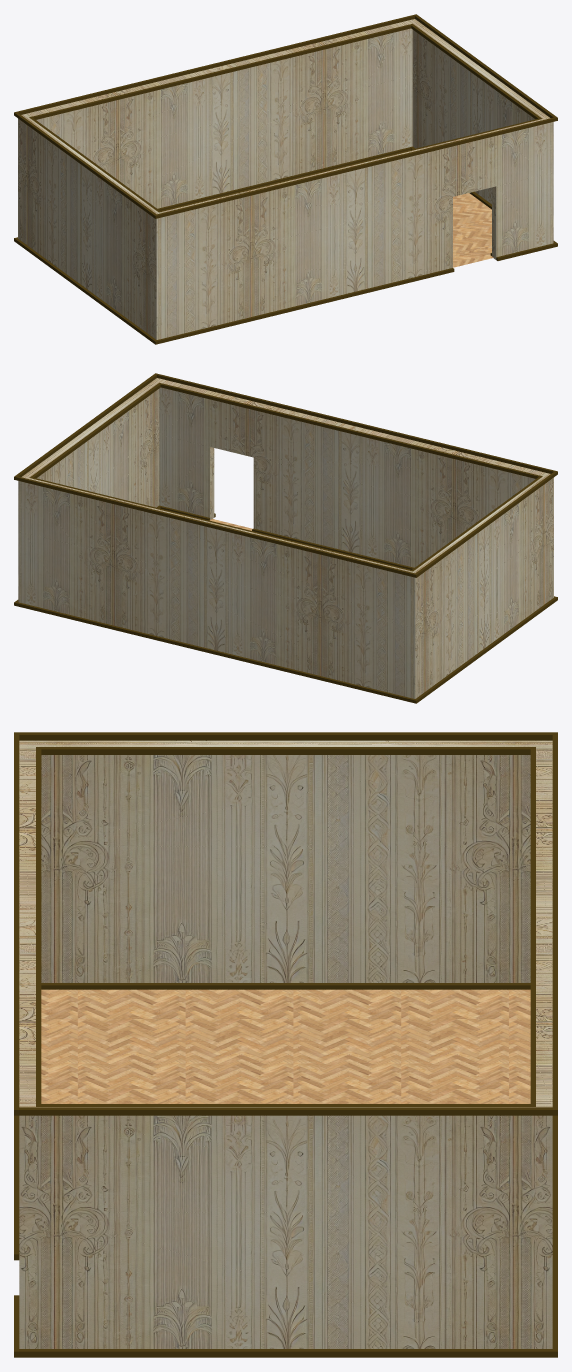
Rendered from Room_2.fbx.
3 renders of one model, top to bottom at view 1: azimuth 30°, elevation 25°; view 2: azimuth 150°, elevation 25°; view 3: azimuth 270°, elevation 25°, orthographic. The views are drawn at different scales.
Visible parts, largest first — view 1: Cube.031, Cube.033, Cube.035, Cube.032, Plane.008, Cube.034; view 2: Cube.031, Cube.033, Cube.035, Cube.032, Cube.034; view 3: Cube.031, Plane.008, Cube.033, Cube.035, Cube.032, Cube.034.
Boxes of the visible parts, x1,y1,x2,y2 form: Cube.031: (18, 19, 553, 339); Cube.033: (14, 14, 557, 218); Cube.035: (29, 23, 542, 212); Cube.032: (14, 237, 557, 344); Plane.008: (453, 193, 493, 267); Cube.034: (157, 146, 491, 255); Cube.031: (18, 378, 553, 698); Cube.033: (14, 373, 557, 577); Cube.035: (29, 382, 542, 571); Cube.032: (14, 513, 557, 703); Cube.034: (157, 505, 414, 569); Cube.031: (19, 740, 552, 1348); Plane.008: (41, 989, 530, 1103); Cube.033: (14, 732, 557, 1115); Cube.035: (36, 747, 535, 1106); Cube.032: (14, 1115, 557, 1357); Cube.034: (41, 983, 530, 989).
Size of the model in its own units: 2945 by 901 by 1794.
Materials: 3 (2 with a texture image).
